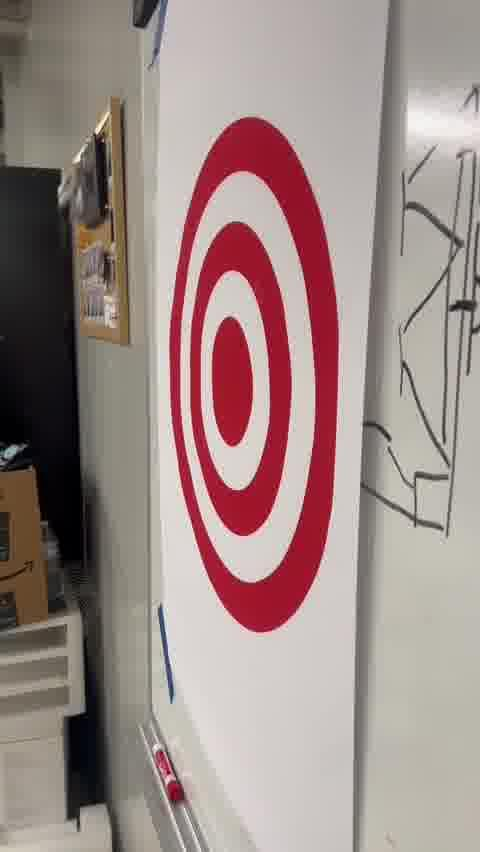target_red: (165, 115, 340, 630)
